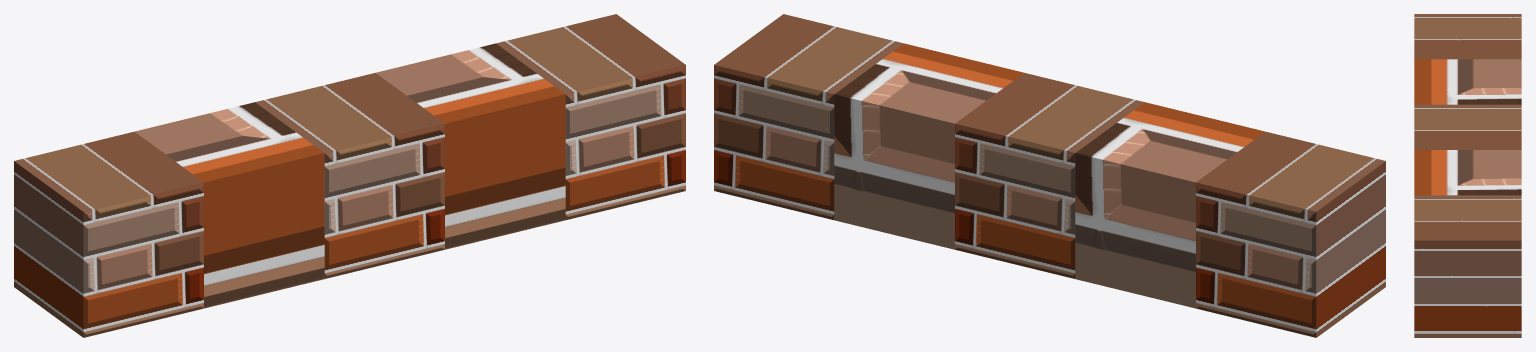
File: rengaBlocks5.fbx
3 views of the same model, side by side, from view 1: azimuth 30°, elevation 25°; view 2: azimuth 150°, elevation 25°; view 3: azimuth 270°, elevation 25° (orthographic). The views are drawn at different scales.
Visible parts, largest first — view 1: pCube6; view 2: pCube6; view 3: pCube6.
Part boxes in pixels (x1,y1,x2,y2): pCube6: [14, 14, 685, 337]; pCube6: [714, 14, 1385, 337]; pCube6: [1414, 14, 1521, 337].
Bounding box in the file's own units: 5 × 1 × 1.
1 material, 1 textured.
